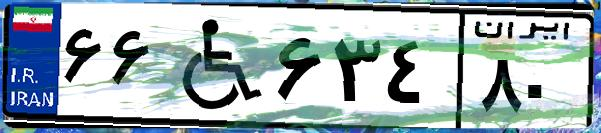0: (525, 38, 570, 115)
3: (330, 28, 385, 110)
4: (385, 28, 445, 110)
6: (270, 28, 330, 110), (57, 26, 110, 100), (110, 28, 158, 98)
8: (475, 38, 525, 113)
ژ (معلولین و جانبازان): (158, 12, 270, 120)
